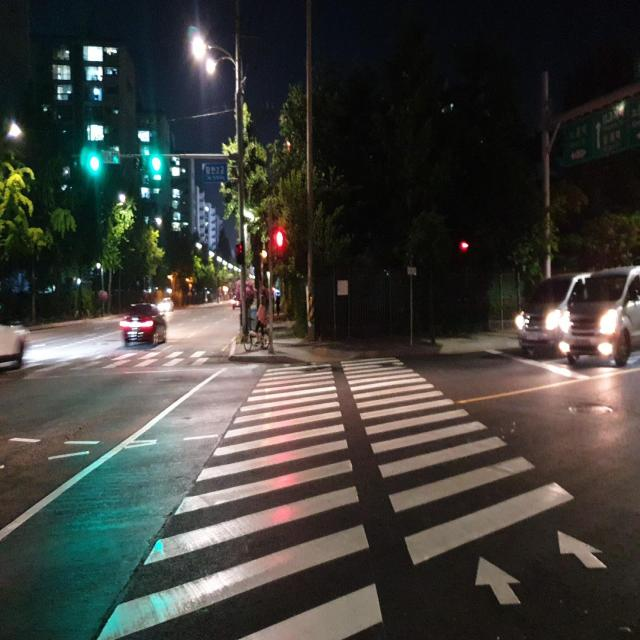빨간불: (275, 228, 286, 270)
횡단보도: (90, 356, 607, 640)
